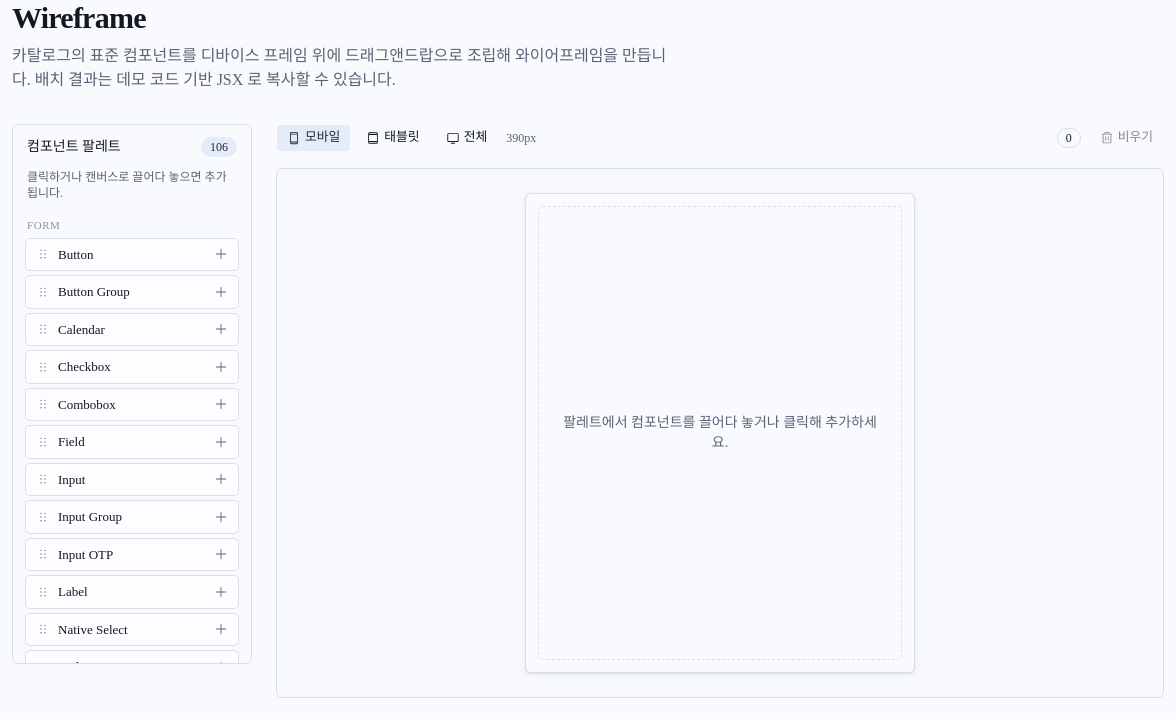
Test: WireframePage › clears all items via the toolbar clear button (#17)
The image size is (1176, 719).
Step 1. Click the button "Button" → [132, 254], box 25,238 -> 239,271
(page scrolled)
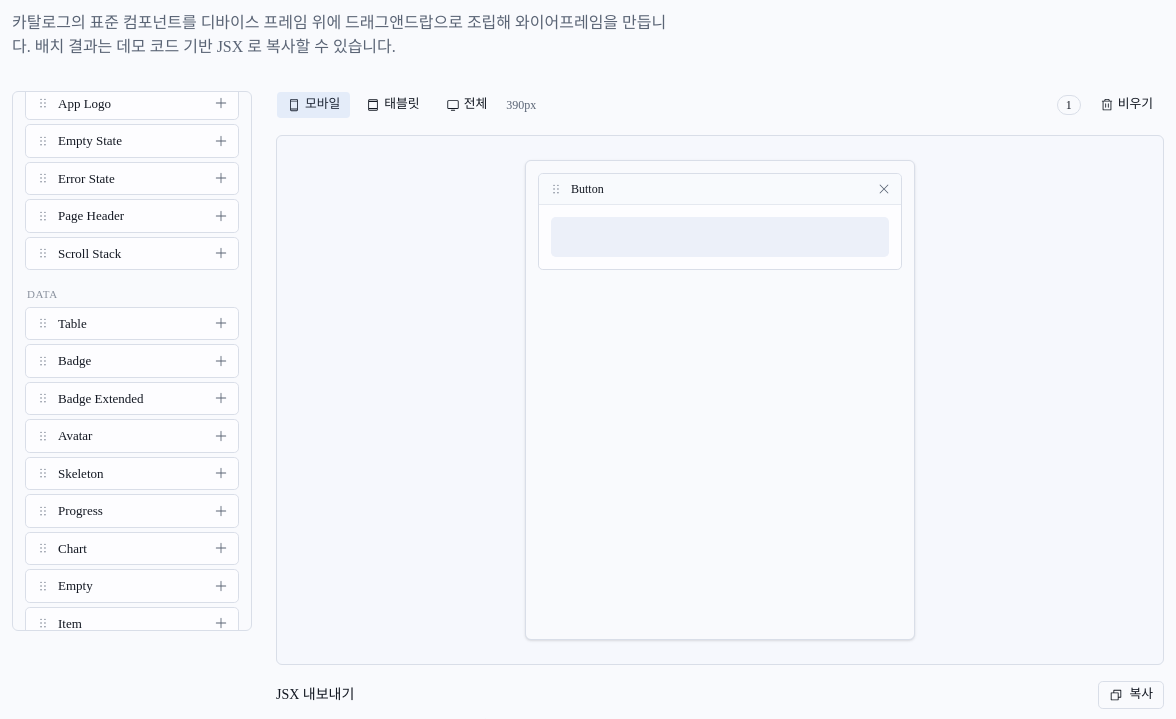
Step 2. Click the button "Badge" → [132, 361], box 25,344 -> 239,378
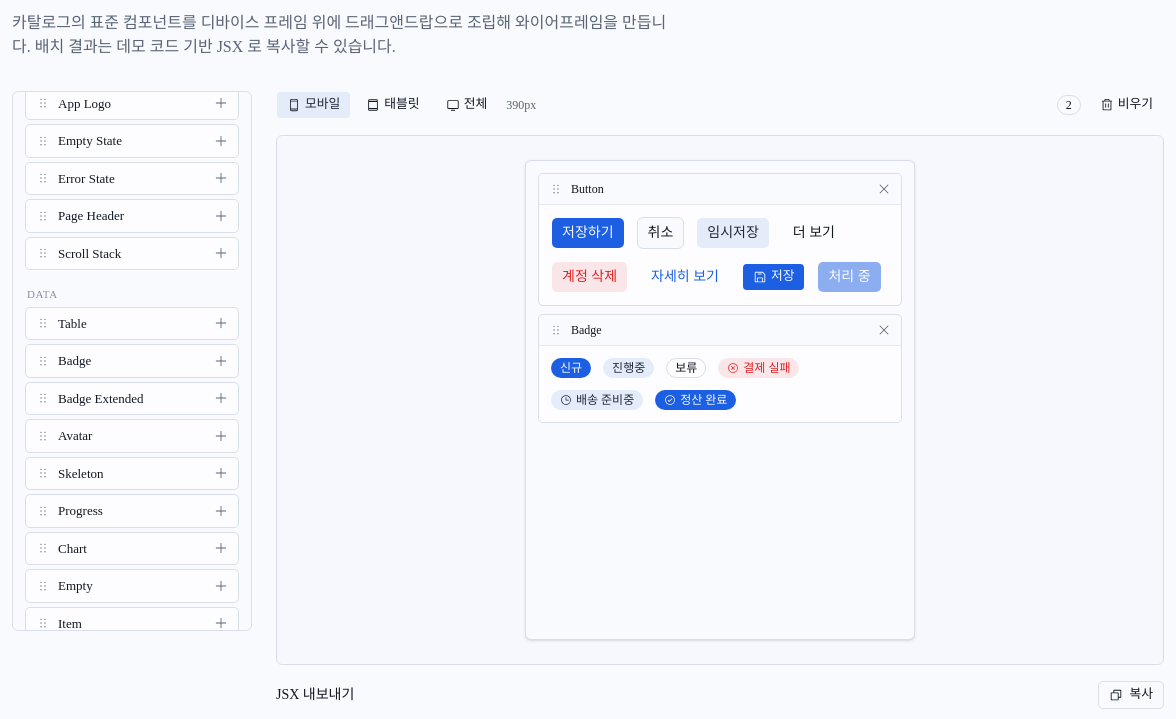
Step 3. Click the button "비우기" → [1126, 105], box 1089,91 -> 1164,119
(page scrolled)
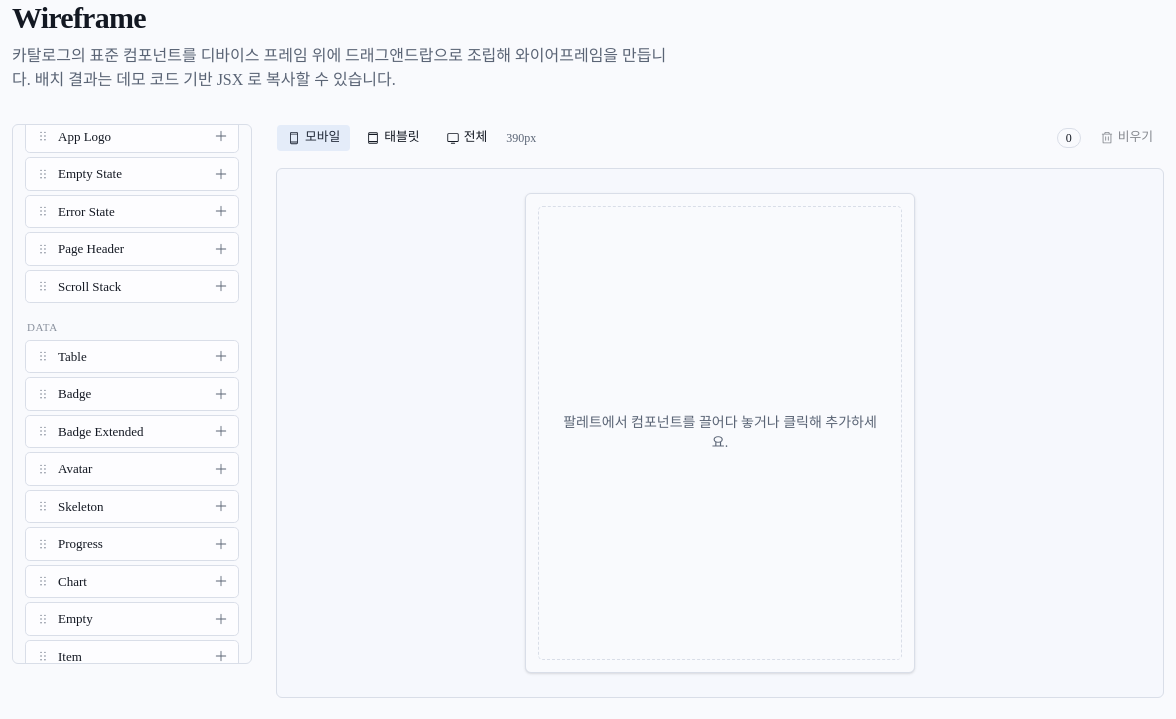
Result: the text "팔레트에서 컴포넌트를 끌어다 놓거나 클릭해 추가하세요." is shown at 538,206 -> 902,660
